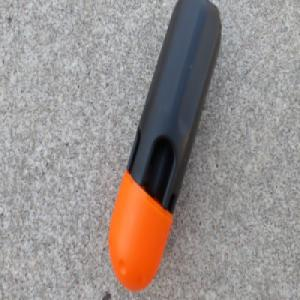PlasticPart: (107, 0, 223, 292)
